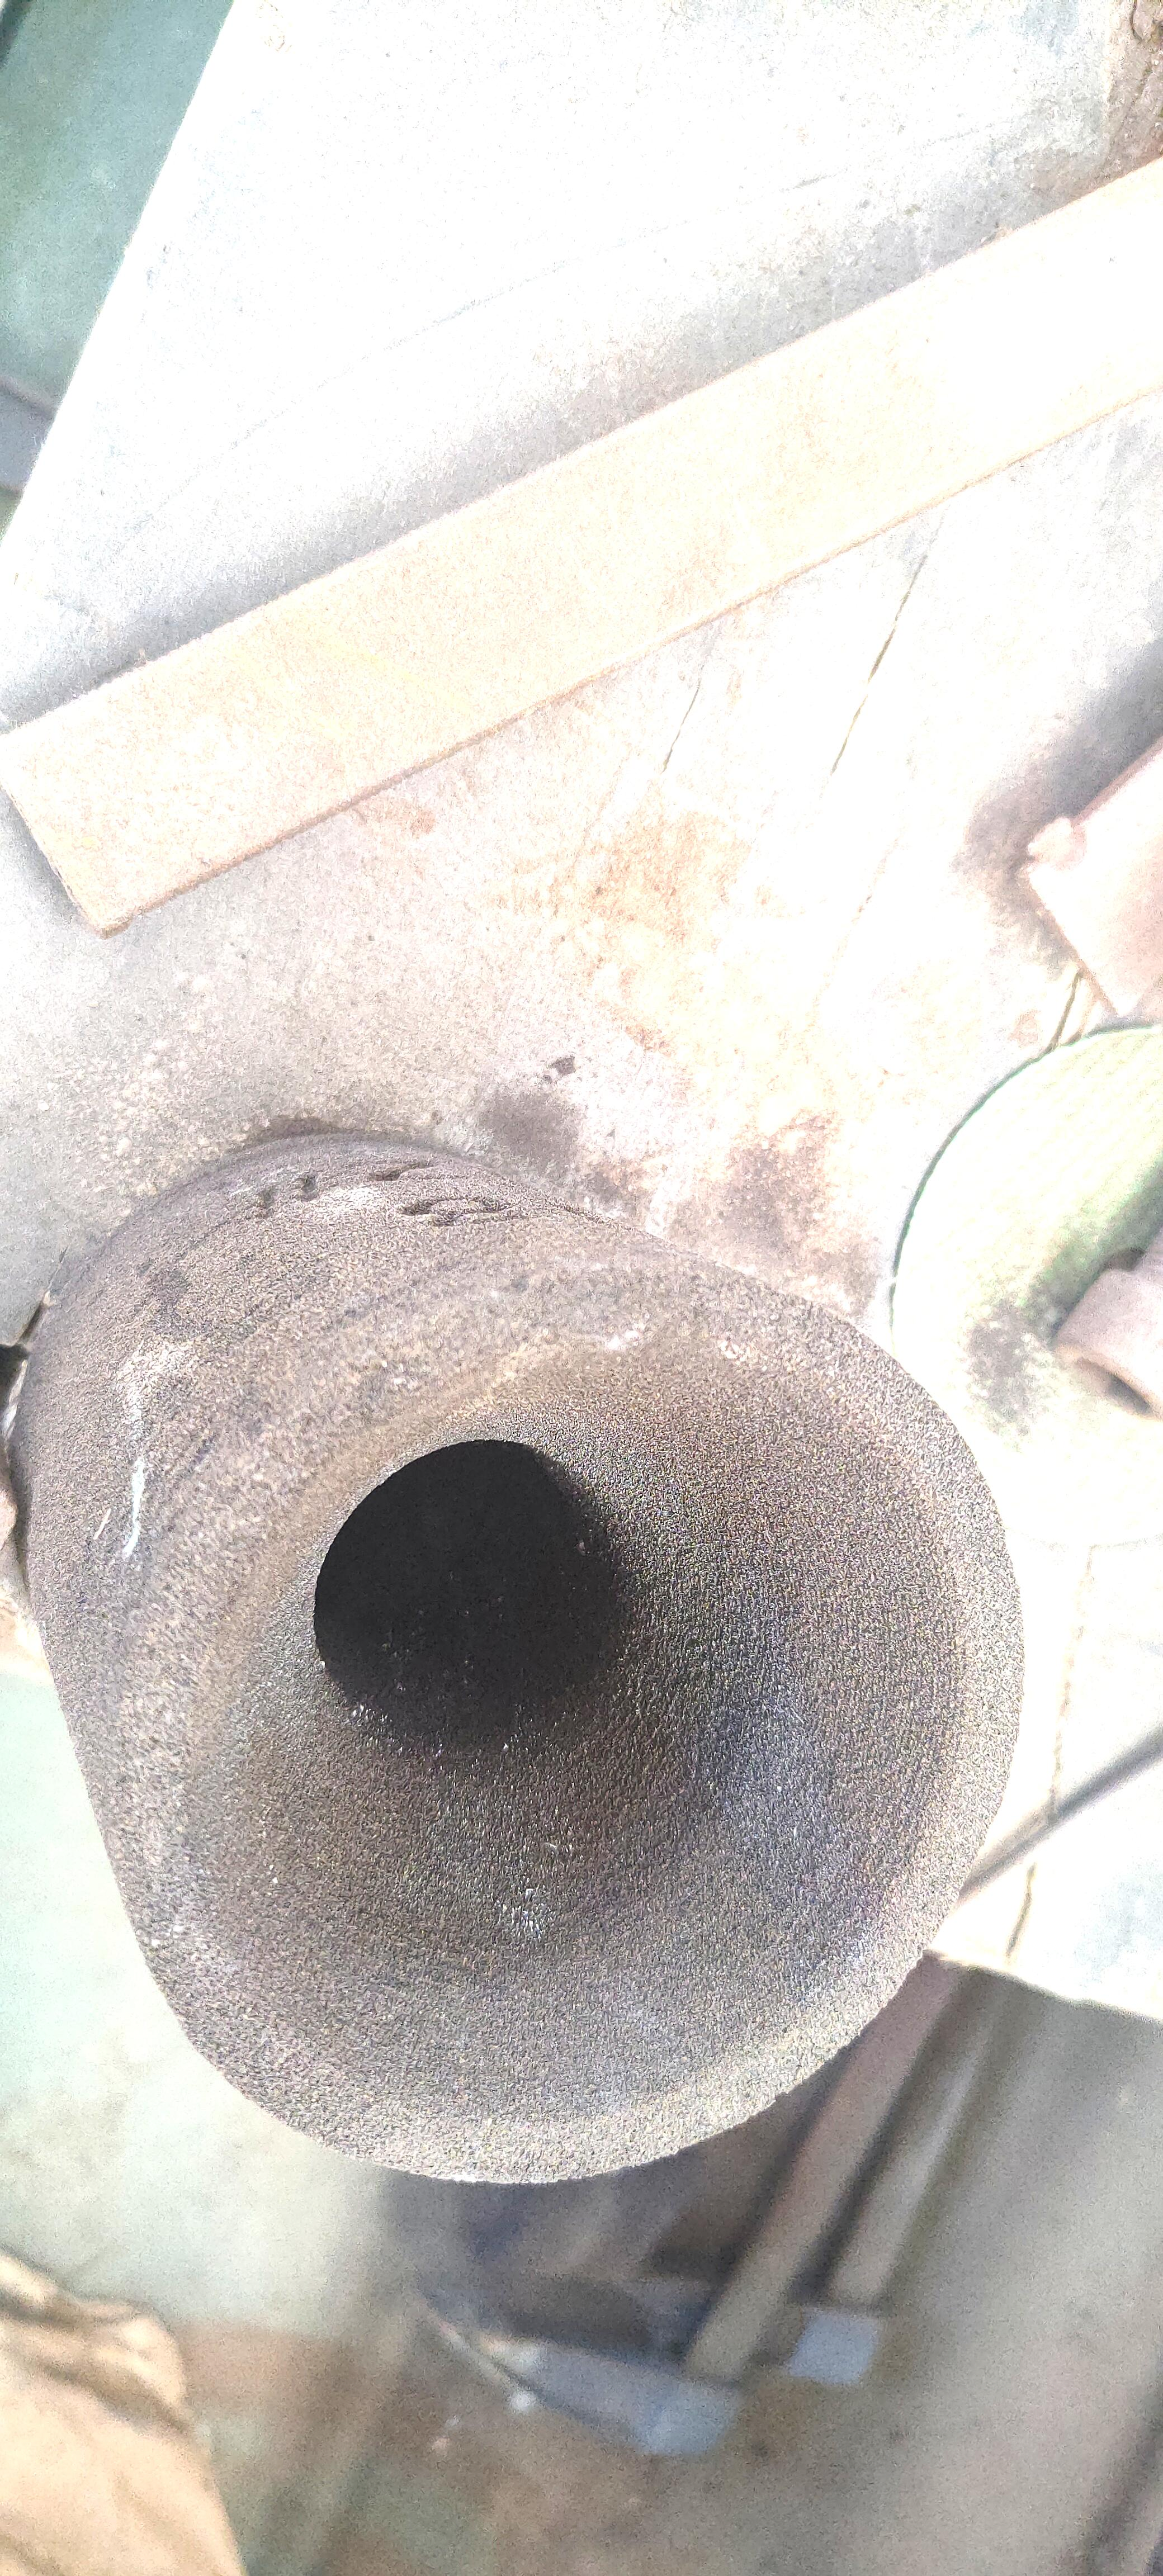pouring hole: (191, 1316, 966, 2123)
